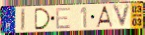1: (80, 6, 88, 29)
A: (95, 5, 114, 28)
D: (34, 7, 52, 31)
E: (56, 7, 72, 30)
I: (20, 8, 26, 32)
V: (111, 3, 132, 29)
